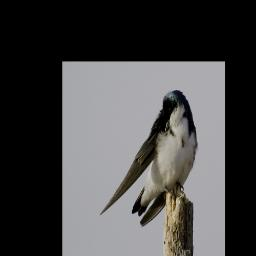Swallow: (100, 88, 199, 228)
